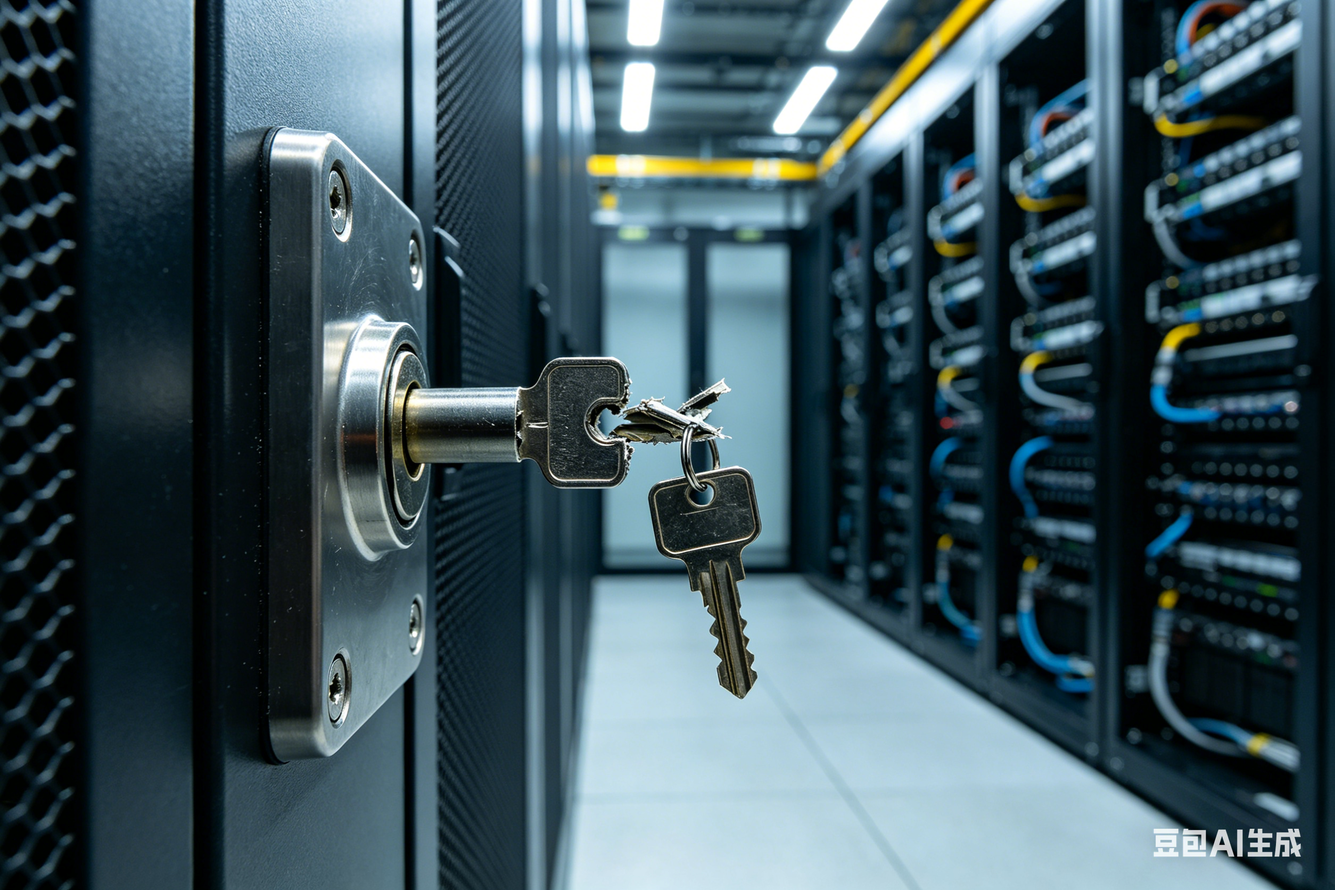BadLock: (558, 351, 735, 553)
